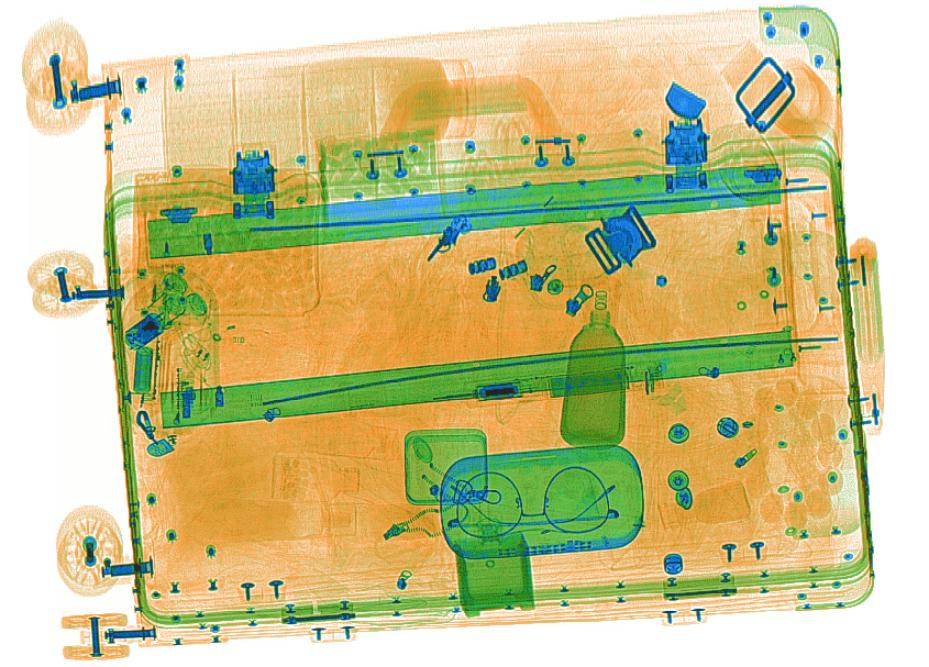battery: (546, 365, 634, 400), (131, 343, 154, 395)
